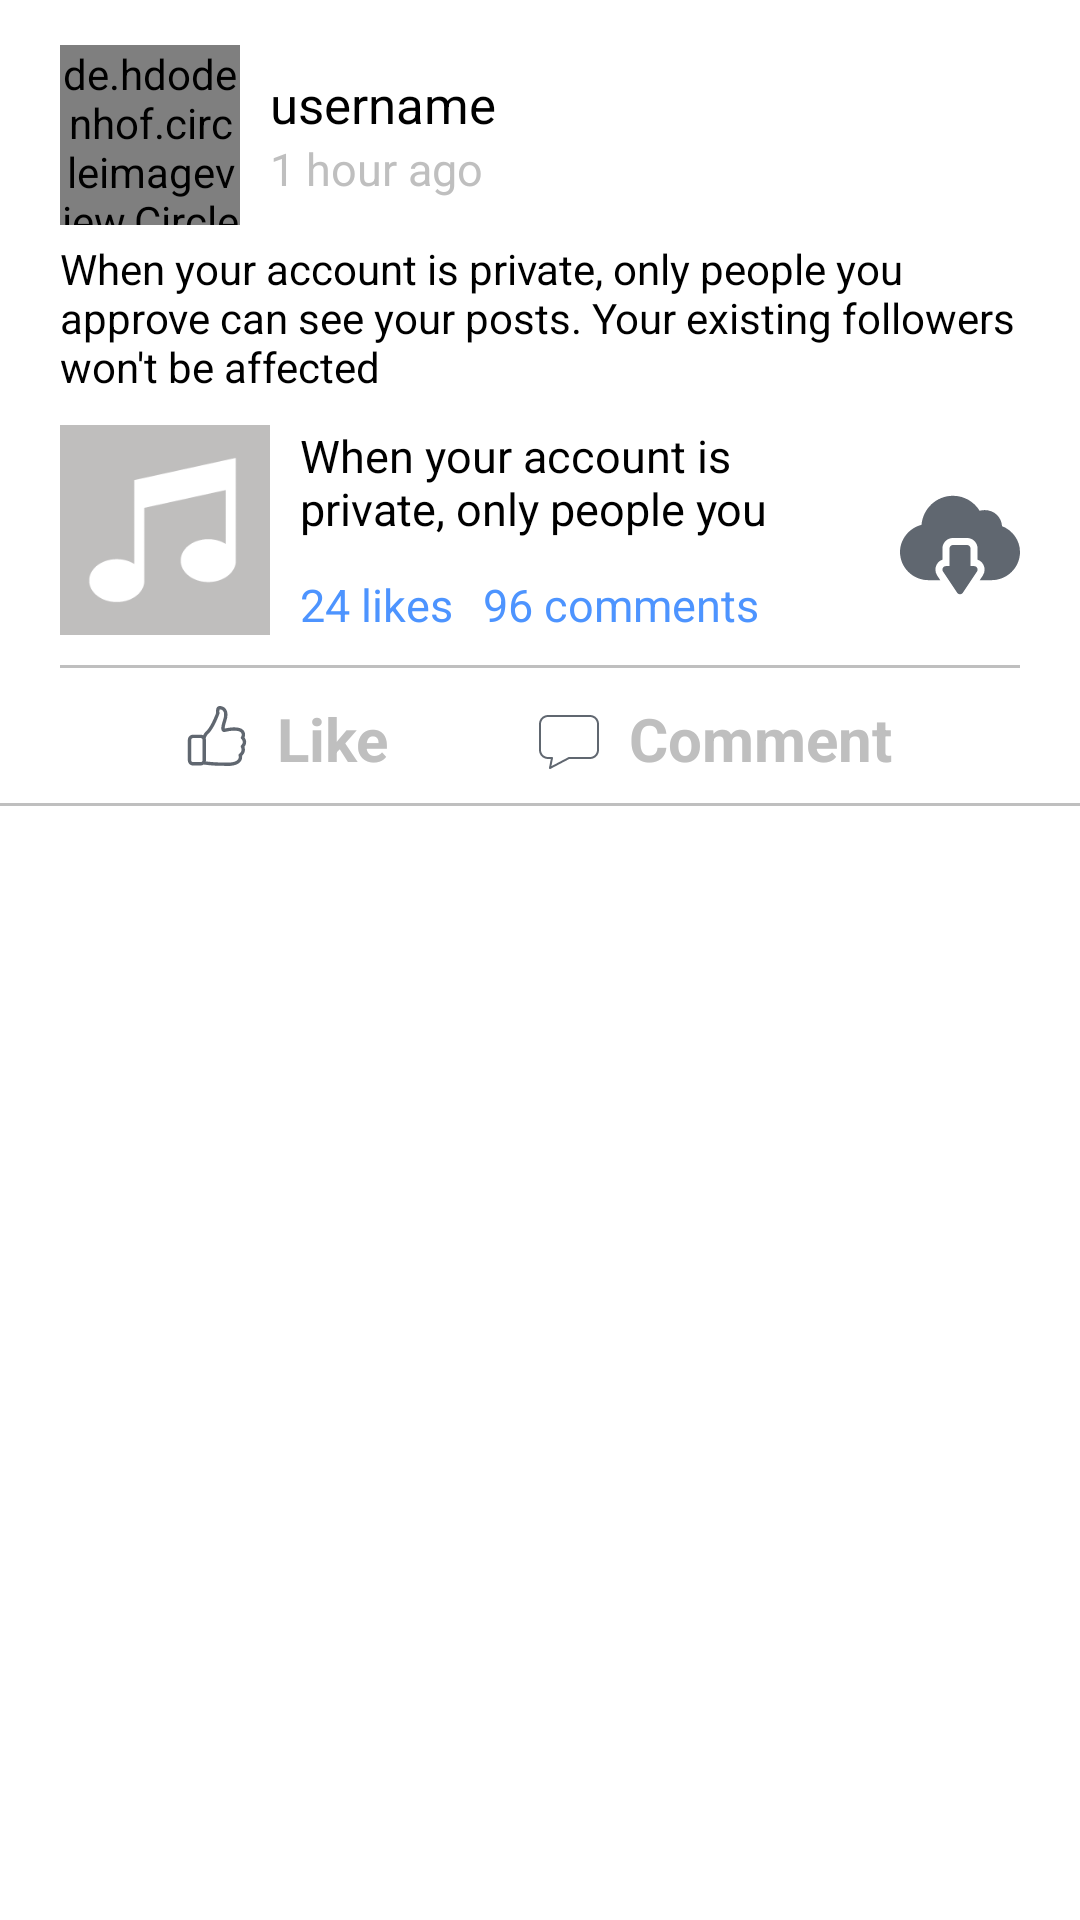

Screen size 1080 x 1920. Icon name, then its center in pixels as (x=x, y=y):
load track: (x=960, y=545)
track: (x=165, y=530)
